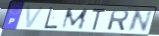L: (43, 6, 59, 30)
M: (59, 8, 90, 31)
N: (126, 10, 155, 33)
R: (106, 10, 131, 32)
T: (90, 7, 108, 32)
V: (25, 5, 46, 29)
